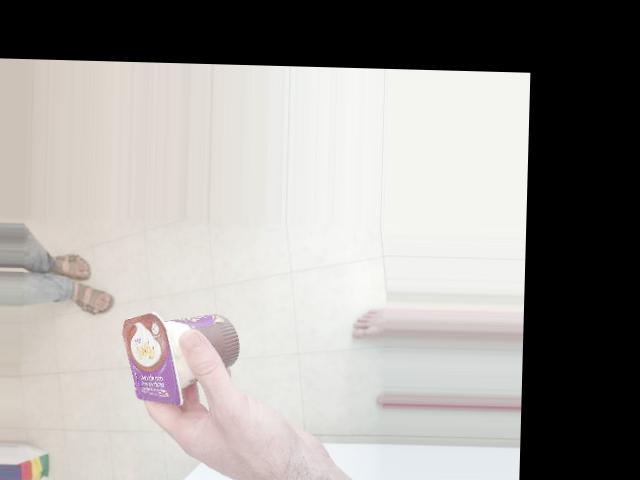milky: (119, 264, 211, 387)
